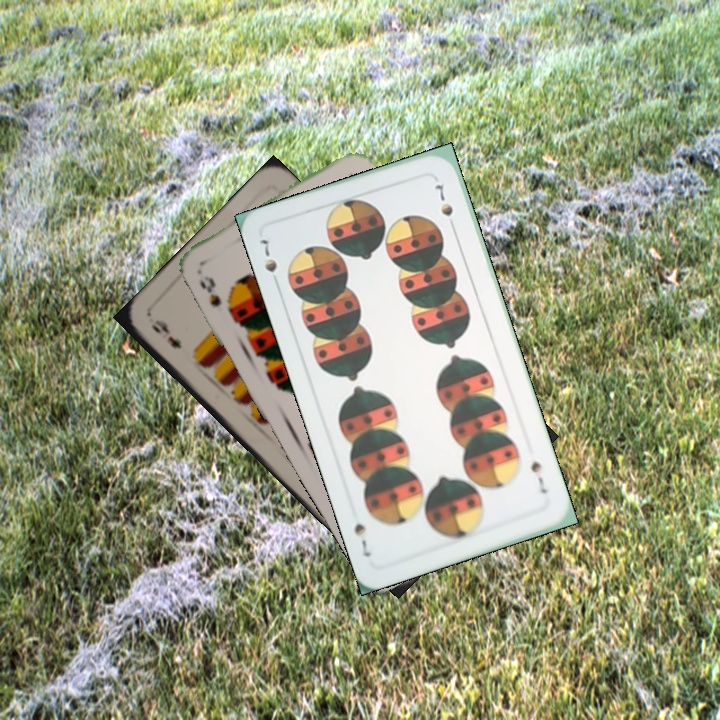E9: (146, 316, 184, 352)
S7: (255, 235, 280, 275), (526, 456, 550, 496)
S9: (195, 271, 236, 317)
